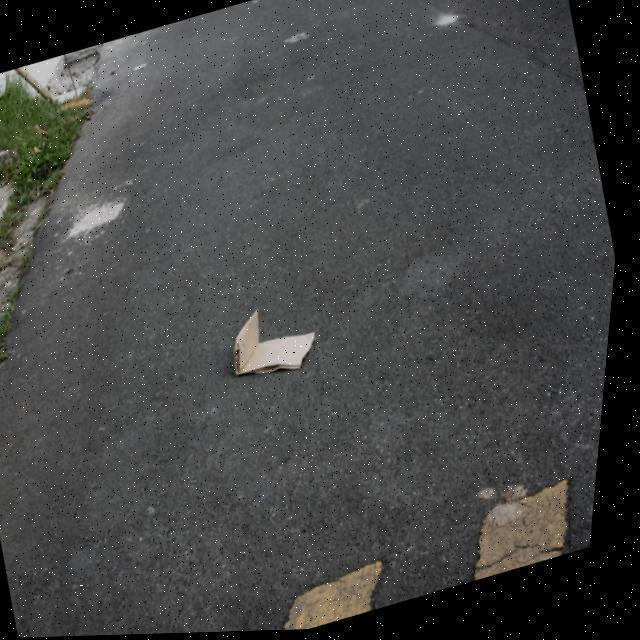Paper_Bag: (227, 295, 332, 388)
